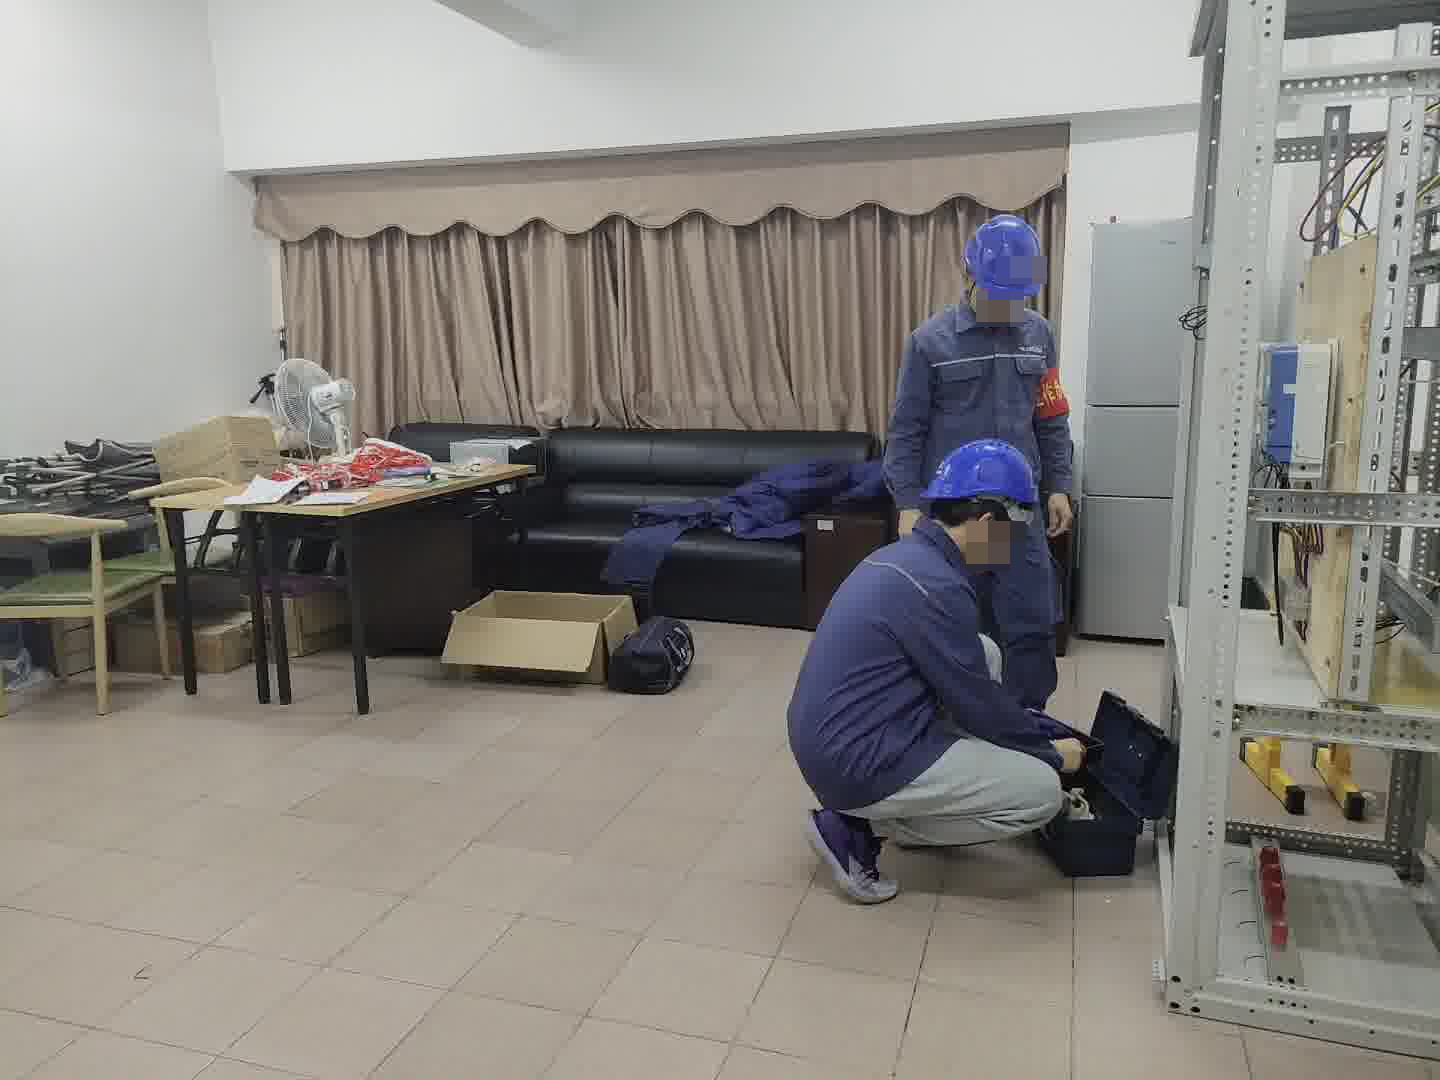badge: (1034, 370, 1072, 424)
downcloth: (860, 756, 1056, 855)
downsuit: (991, 536, 1064, 714)
fhalt: (921, 441, 1039, 568)
halt: (960, 214, 1045, 318)
hand: (1044, 497, 1089, 540), (1052, 737, 1090, 776), (890, 508, 920, 543)
inear: (956, 267, 985, 313)
noear: (967, 506, 1000, 565)
person: (783, 440, 1152, 901), (879, 209, 1081, 710)
upsuit: (785, 529, 996, 797), (879, 302, 1077, 496)
